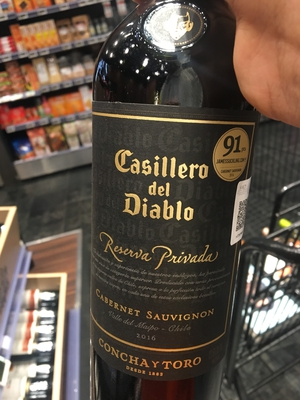casillero del diablo reserva privada cabernet sauvignon: (76, 4, 268, 394)
